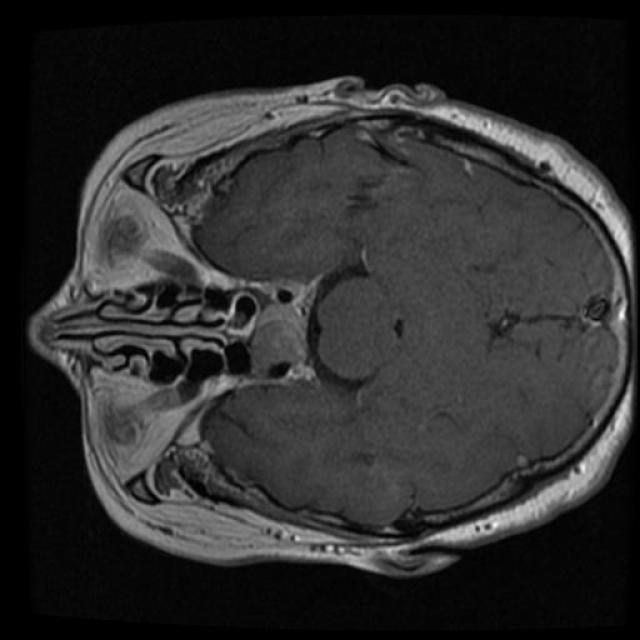Pituitary: (248, 276, 324, 380)
